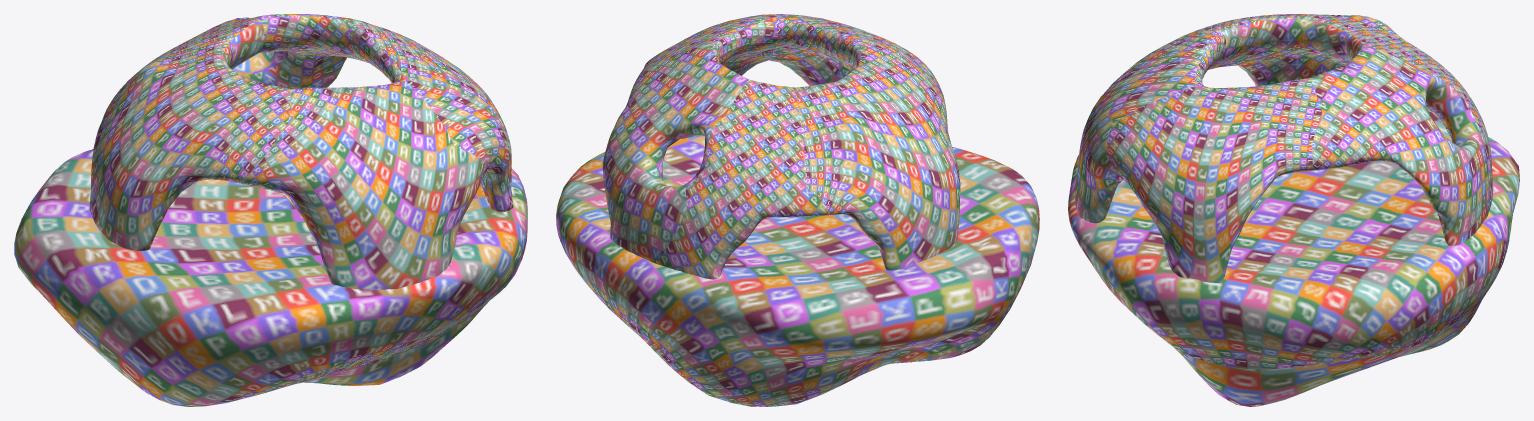
File: island5.obj
The picture shows the model from 3 angles, left to right: view 1: azimuth 30°, elevation 25°; view 2: azimuth 150°, elevation 25°; view 3: azimuth 270°, elevation 25°; orthographic projection. The views are drawn at different scales.
Visible parts, largest first — view 1: F3:GeoDome1_copy3, F3:GeoDome1; view 2: F3:GeoDome1_copy3, F3:GeoDome1; view 3: F3:GeoDome1_copy3, F3:GeoDome1.
Part boxes in pixels (x1=…): F3:GeoDome1_copy3: x1=89, y1=14, x2=513, y2=290; F3:GeoDome1: x1=14, y1=149, x2=527, y2=406; F3:GeoDome1_copy3: x1=602, y1=14, x2=960, y2=279; F3:GeoDome1: x1=556, y1=136, x2=1039, y2=406; F3:GeoDome1_copy3: x1=1074, y1=14, x2=1493, y2=282; F3:GeoDome1: x1=1068, y1=109, x2=1519, y2=406.
Bounding box in the file's own units: 2.3 × 1.59 × 2.03.
Materials: 2 (2 with a texture image).
